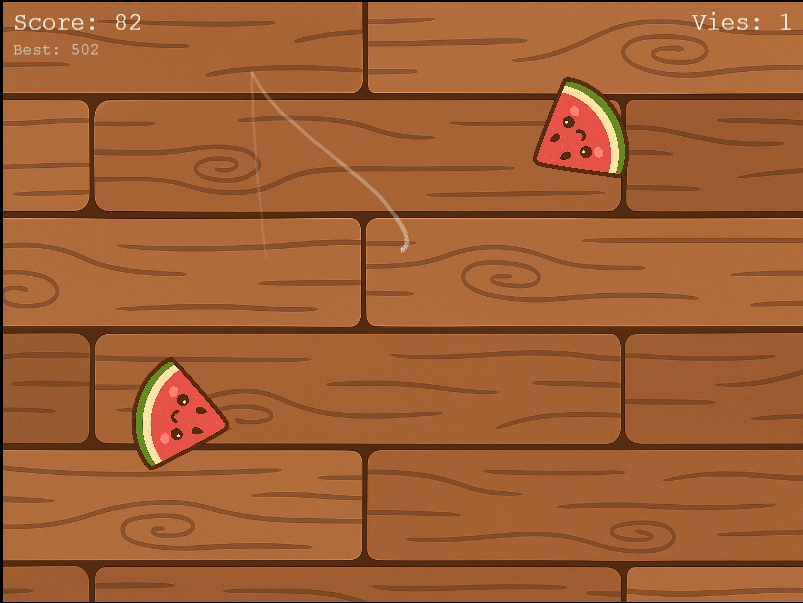fruit: (122, 351, 243, 472), (524, 75, 641, 192)
